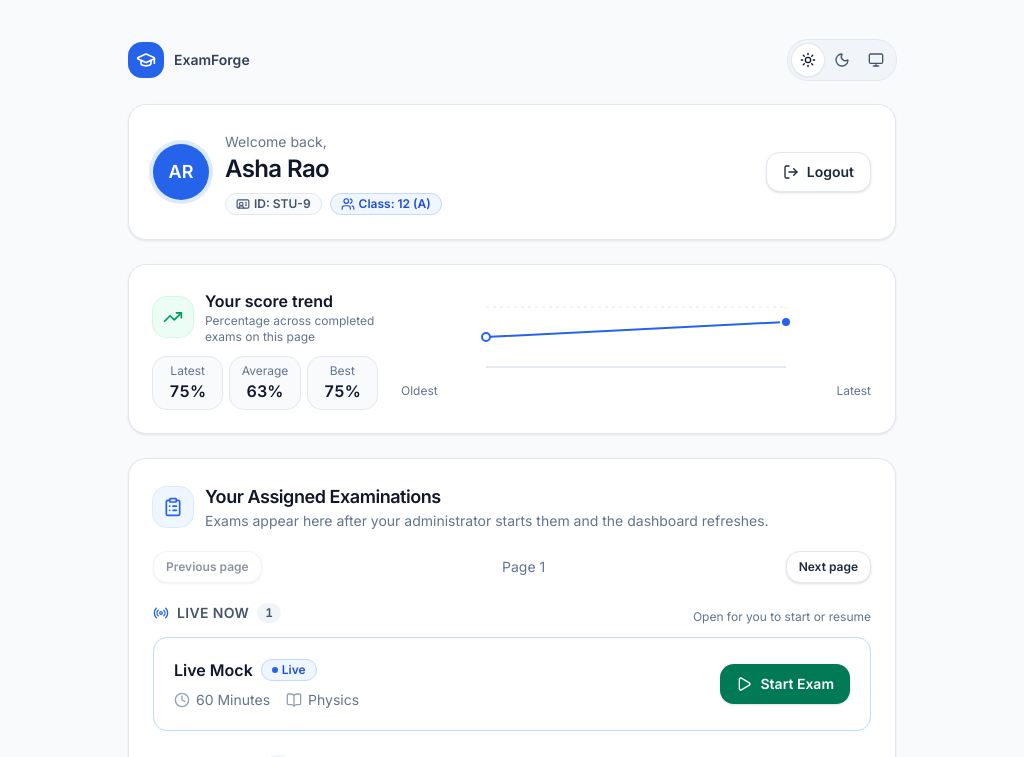
Test: StudentDashboard bounded page reads › ignores an aborted old page reply when the user changes page (ownership error=false)
The width and height of the screenshot is (1024, 757).
expect the element "Live now" is shown: met, box [153,603,871,731]
Click the button "Next page". click: (828, 567)
box: [786,551,871,583]
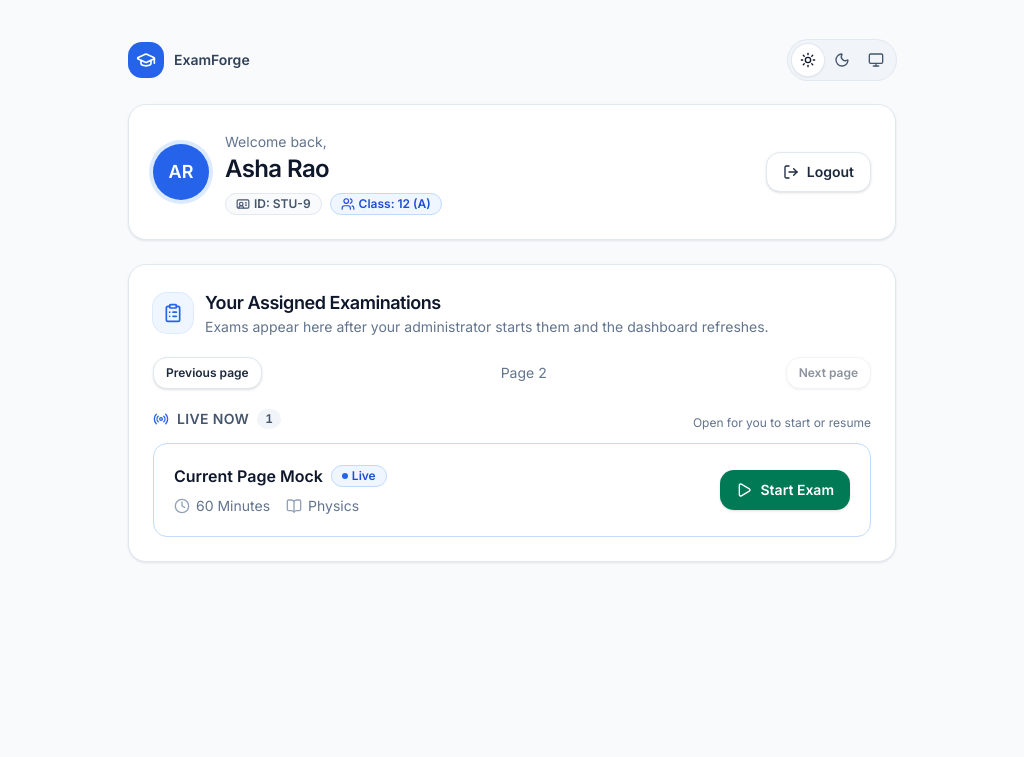
expect the heading "Current Page Mock" is shown: met, box [174,464,323,488]
